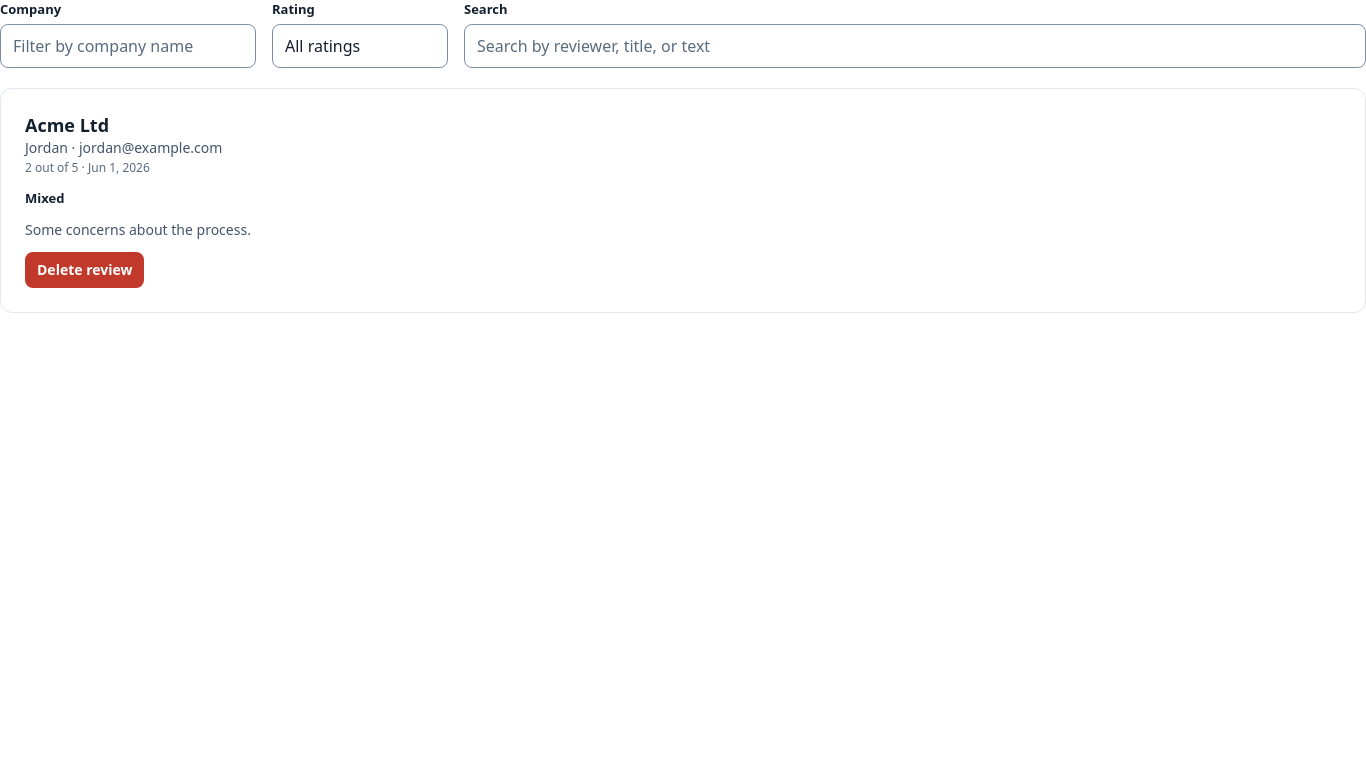
Test: ReviewModerationTable › lists reviews and confirms a review deletion through the dialog
Expected: the text "Acme Ltd" is shown, [25,113,109,137]
// Open the confirm dialog.
Click the button "Delete review".
click(85, 270)  # box [25,252,144,288]
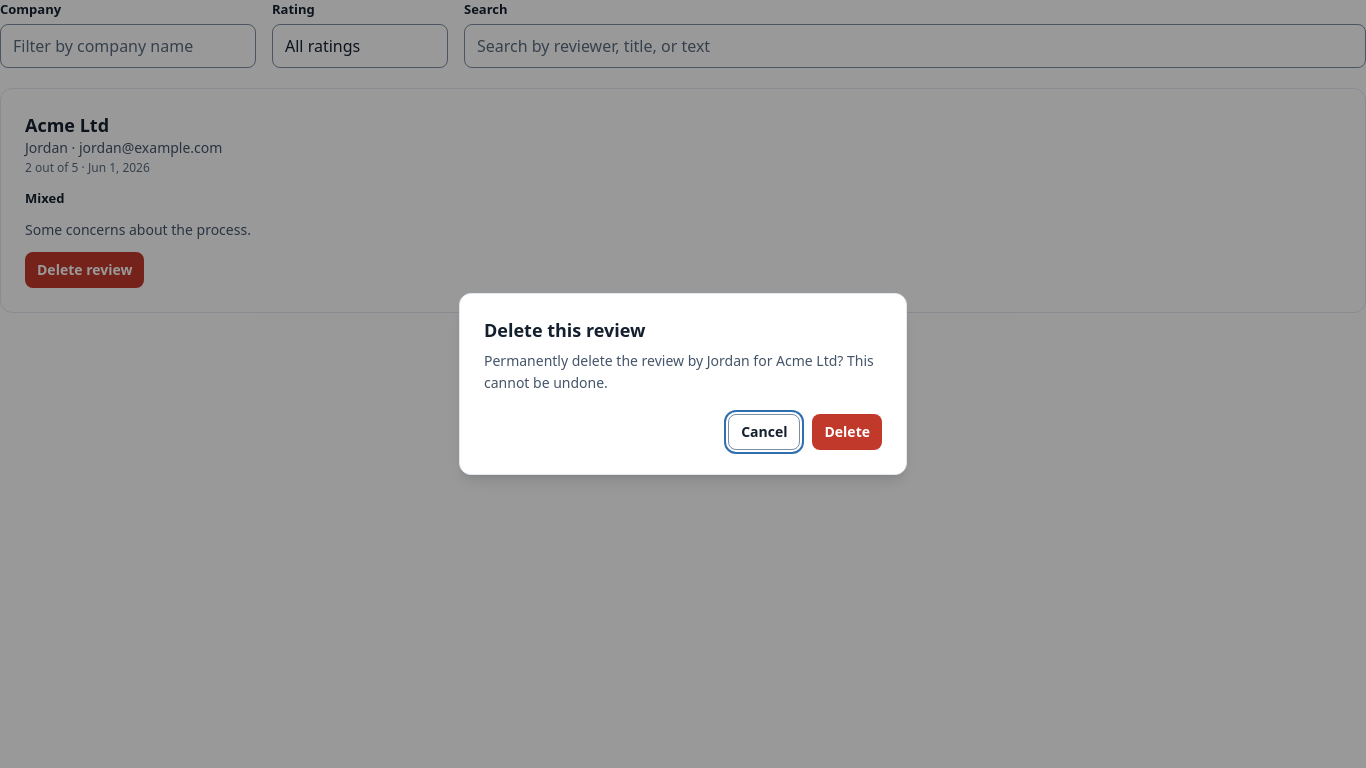
Expected: the text "Jordan" is shown, [484,352,874,392]
// Confirm — the service is called with the review id and feedback shows.
Click the button "Delete".
click(847, 432)  # box [812,414,882,450]
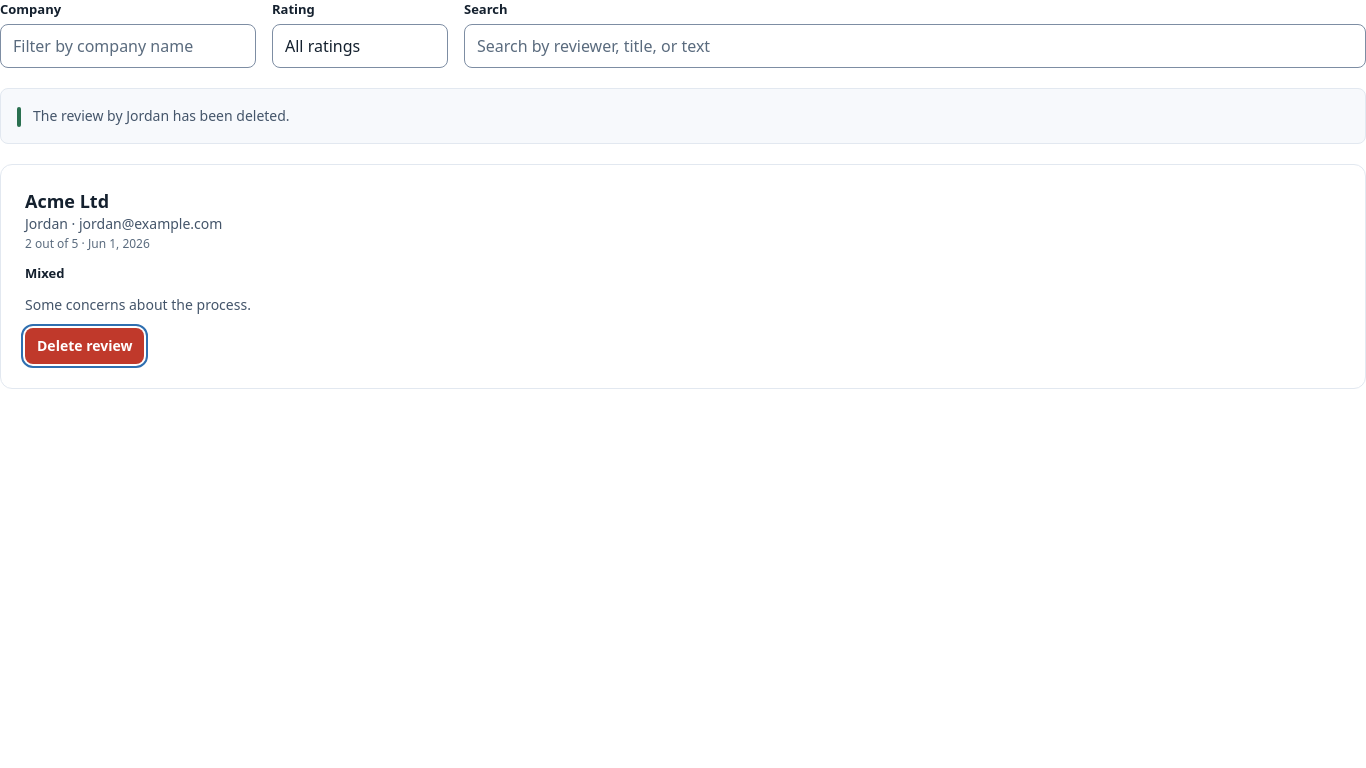
Expected: the text "The review by Jordan has been deleted." is shown, [33,106,290,125]
